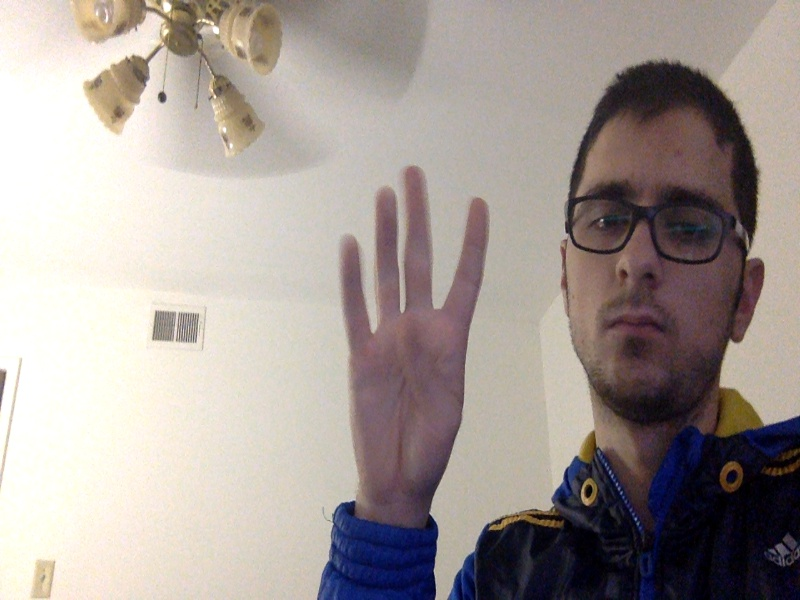4-hand: (339, 169, 489, 496)
